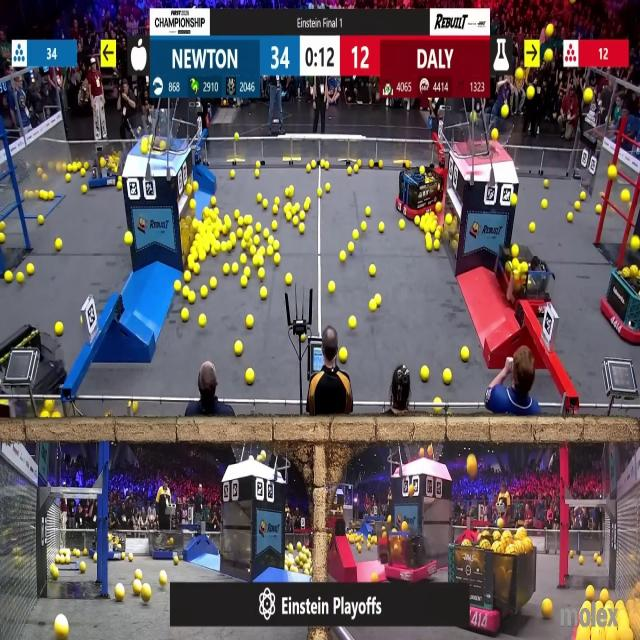ball_airborne: (467, 456, 476, 476), (585, 90, 594, 105), (631, 236, 639, 251), (544, 48, 552, 62), (622, 188, 630, 202), (608, 166, 616, 180), (546, 26, 554, 40), (527, 88, 535, 101), (141, 140, 148, 154), (517, 68, 525, 79), (492, 129, 499, 141), (501, 106, 508, 118), (547, 51, 554, 63), (142, 137, 148, 148), (161, 141, 167, 151), (420, 448, 425, 458), (470, 112, 476, 120), (517, 71, 522, 80), (498, 520, 503, 528), (428, 447, 432, 457)
ball_ground: (541, 599, 551, 619), (141, 585, 151, 603), (115, 586, 124, 602), (245, 368, 253, 384), (445, 370, 453, 385), (134, 582, 142, 596), (236, 342, 244, 356), (161, 570, 169, 584), (422, 366, 430, 380), (341, 348, 349, 362), (587, 586, 595, 600), (56, 321, 64, 334), (461, 348, 468, 362), (246, 315, 253, 329), (232, 264, 240, 276), (4, 272, 12, 284), (15, 272, 23, 284), (126, 233, 134, 245), (174, 280, 182, 292), (181, 309, 188, 322), (200, 314, 207, 327), (349, 316, 356, 329), (202, 285, 209, 298), (601, 589, 608, 602), (241, 276, 248, 288), (182, 286, 189, 298), (56, 239, 63, 251), (305, 198, 311, 212), (253, 254, 260, 266), (222, 266, 230, 276), (58, 325, 64, 338), (183, 272, 190, 283), (57, 236, 64, 247), (285, 274, 292, 285), (211, 277, 217, 289), (192, 264, 198, 276), (368, 266, 374, 278), (29, 265, 35, 277), (328, 280, 334, 292), (274, 240, 280, 252), (376, 293, 382, 305), (512, 195, 518, 207), (341, 251, 348, 261), (540, 200, 547, 210), (188, 200, 195, 210), (241, 253, 247, 264), (274, 253, 280, 264), (433, 240, 439, 251), (136, 568, 142, 579), (369, 302, 375, 313), (245, 215, 252, 224), (188, 292, 195, 301), (244, 268, 251, 277), (348, 243, 355, 252), (434, 408, 441, 417), (272, 220, 278, 230), (38, 215, 44, 225), (254, 222, 260, 232), (530, 222, 536, 232), (263, 200, 269, 210), (250, 245, 256, 255), (200, 250, 206, 260), (371, 572, 377, 582), (79, 562, 85, 572), (40, 189, 46, 199), (596, 204, 602, 214), (364, 208, 371, 216), (213, 232, 220, 240), (584, 601, 591, 609), (230, 240, 237, 248), (222, 225, 229, 233), (231, 232, 238, 240), (259, 269, 264, 280), (427, 241, 432, 252), (288, 185, 293, 196), (273, 206, 279, 215), (380, 222, 386, 231), (241, 240, 247, 249), (269, 247, 275, 256), (253, 237, 259, 246), (269, 239, 275, 248), (187, 254, 193, 263), (325, 183, 331, 192), (129, 400, 135, 409), (299, 223, 304, 233), (447, 214, 452, 224), (375, 295, 380, 305), (329, 186, 334, 196), (0, 234, 5, 244), (425, 233, 432, 240), (66, 174, 72, 182), (434, 232, 440, 240), (264, 230, 270, 238), (258, 246, 264, 254), (254, 170, 260, 178), (116, 182, 122, 190), (348, 167, 353, 176), (568, 212, 573, 221), (399, 219, 404, 228), (361, 221, 366, 230), (256, 192, 261, 201), (264, 289, 269, 298), (574, 202, 579, 211), (186, 309, 190, 320), (223, 215, 229, 222), (299, 212, 304, 220), (354, 231, 358, 241), (235, 210, 240, 218), (212, 248, 217, 256), (312, 162, 317, 170), (192, 182, 196, 192), (255, 162, 260, 170), (569, 551, 574, 559), (82, 184, 86, 193), (212, 198, 216, 207), (380, 161, 384, 170), (48, 190, 52, 199), (368, 161, 372, 170), (129, 555, 134, 562), (80, 170, 85, 177), (275, 198, 280, 205), (66, 556, 70, 564), (354, 166, 358, 174), (579, 556, 583, 564), (194, 234, 198, 242), (75, 550, 80, 556), (294, 215, 298, 222), (308, 165, 312, 172), (296, 542, 300, 549), (83, 163, 87, 170), (581, 193, 584, 201), (38, 216, 40, 225), (121, 554, 124, 560), (360, 545, 362, 553), (120, 186, 122, 192), (294, 568, 297, 572)
goal: (461, 114, 515, 159), (126, 118, 187, 154)
robot_blue: (88, 144, 119, 190), (91, 526, 126, 562), (151, 528, 191, 558)
robot_red: (447, 534, 539, 636), (381, 512, 441, 584), (503, 246, 553, 318), (602, 265, 640, 346), (397, 164, 444, 218)
